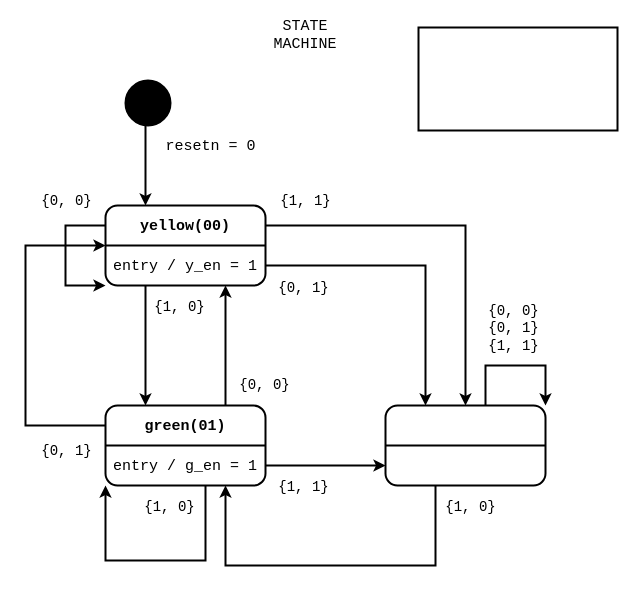
This 635x591 diagram has some shape labels left out. Each missing label, with the centre of its shape:
"red(10) entry / r_en = 1" belongs at (x=465, y=445).
"State transition arcs are represented as {go, stop}" belongs at (x=517, y=78).
